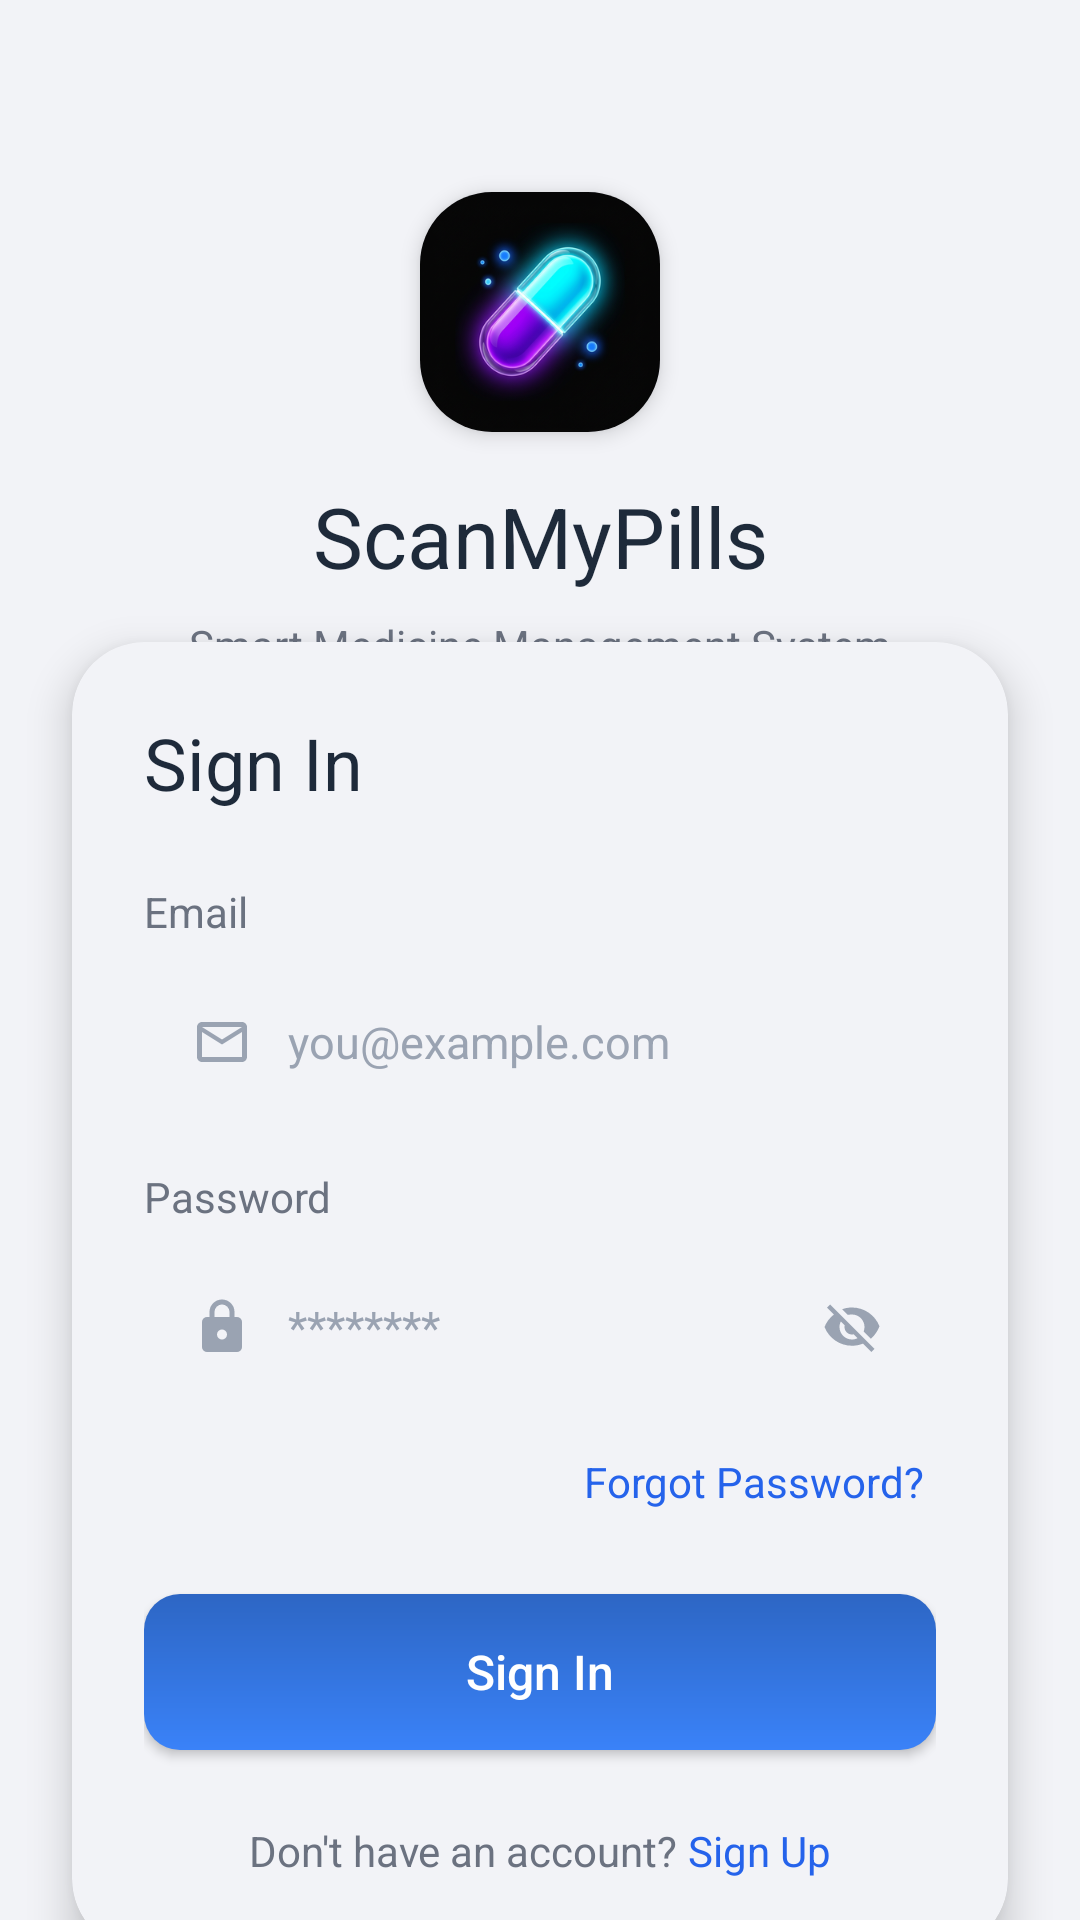

Named icons in this screenshot (1080*1920) and their bounding boxes, (x1, y1, x2, y2):
eye off: (825, 1305, 880, 1352)
lock: (202, 1299, 242, 1352)
